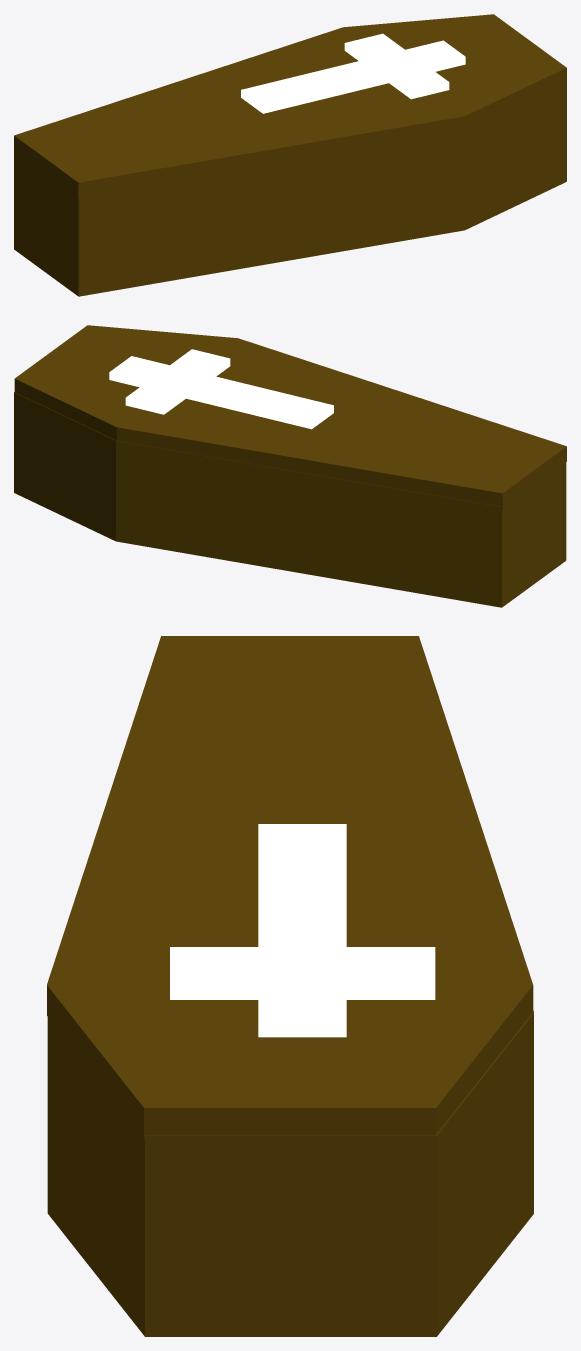
Rendered from coffin.288baebf.glb.
The picture shows the model from 3 angles, top to bottom: view 1: azimuth 30°, elevation 25°; view 2: azimuth 150°, elevation 25°; view 3: azimuth 270°, elevation 25°; orthographic projection. The views are drawn at different scales.
Visible parts, largest first — view 1: coffin, coffin top, crose coffin; view 2: coffin, coffin top, crose coffin; view 3: coffin top, coffin, crose coffin.
Part boxes in pixels (x1,y1,x2,y2): coffin: (14,83,566,296); coffin top: (14,14,566,197); crose coffin: (241,33,465,113); coffin: (14,392,566,607); coffin top: (14,325,566,508); crose coffin: (109,349,333,429); coffin top: (47,636,533,1138); coffin: (47,1010,533,1336); crose coffin: (170,824,435,1037).
Bounding box in the file's own units: 4.63 × 1.12 × 2.02.
